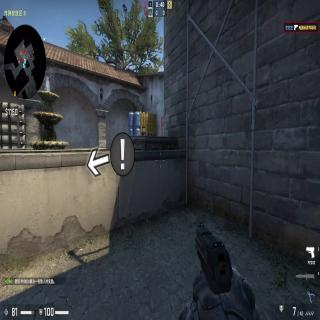T-Head: (142, 126, 146, 132)
